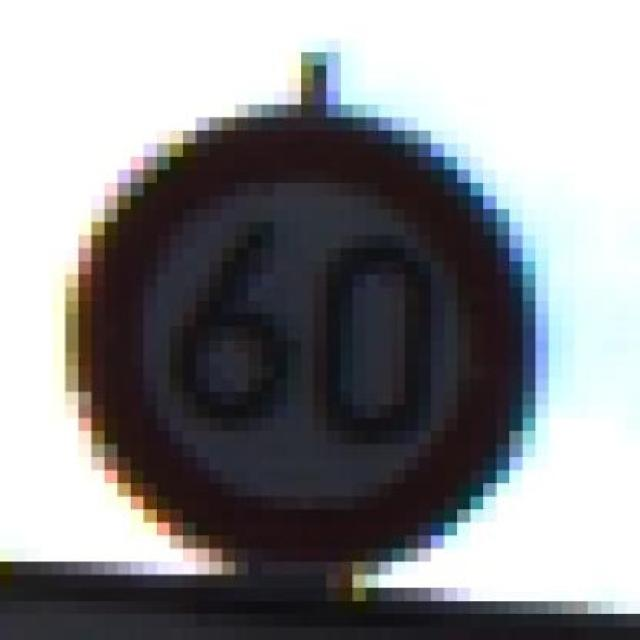forb_speed_over_60: (75, 110, 517, 559)
